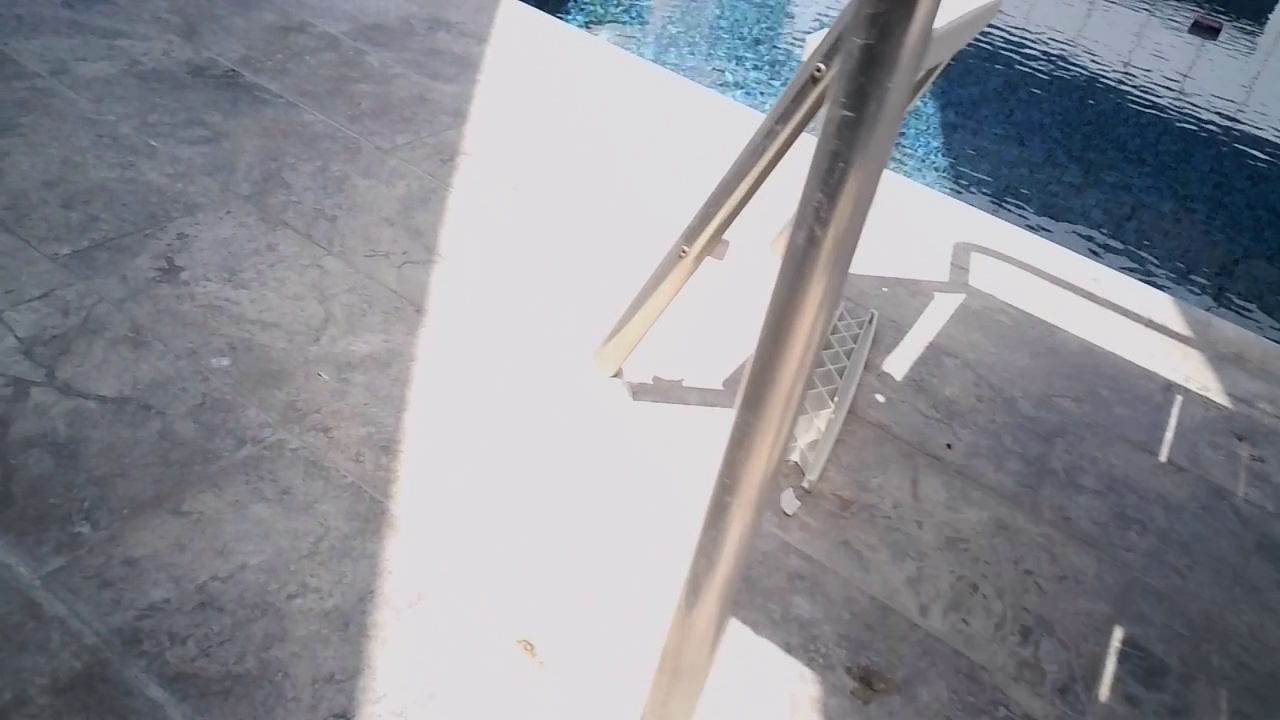debris: (1188, 10, 1225, 45)
